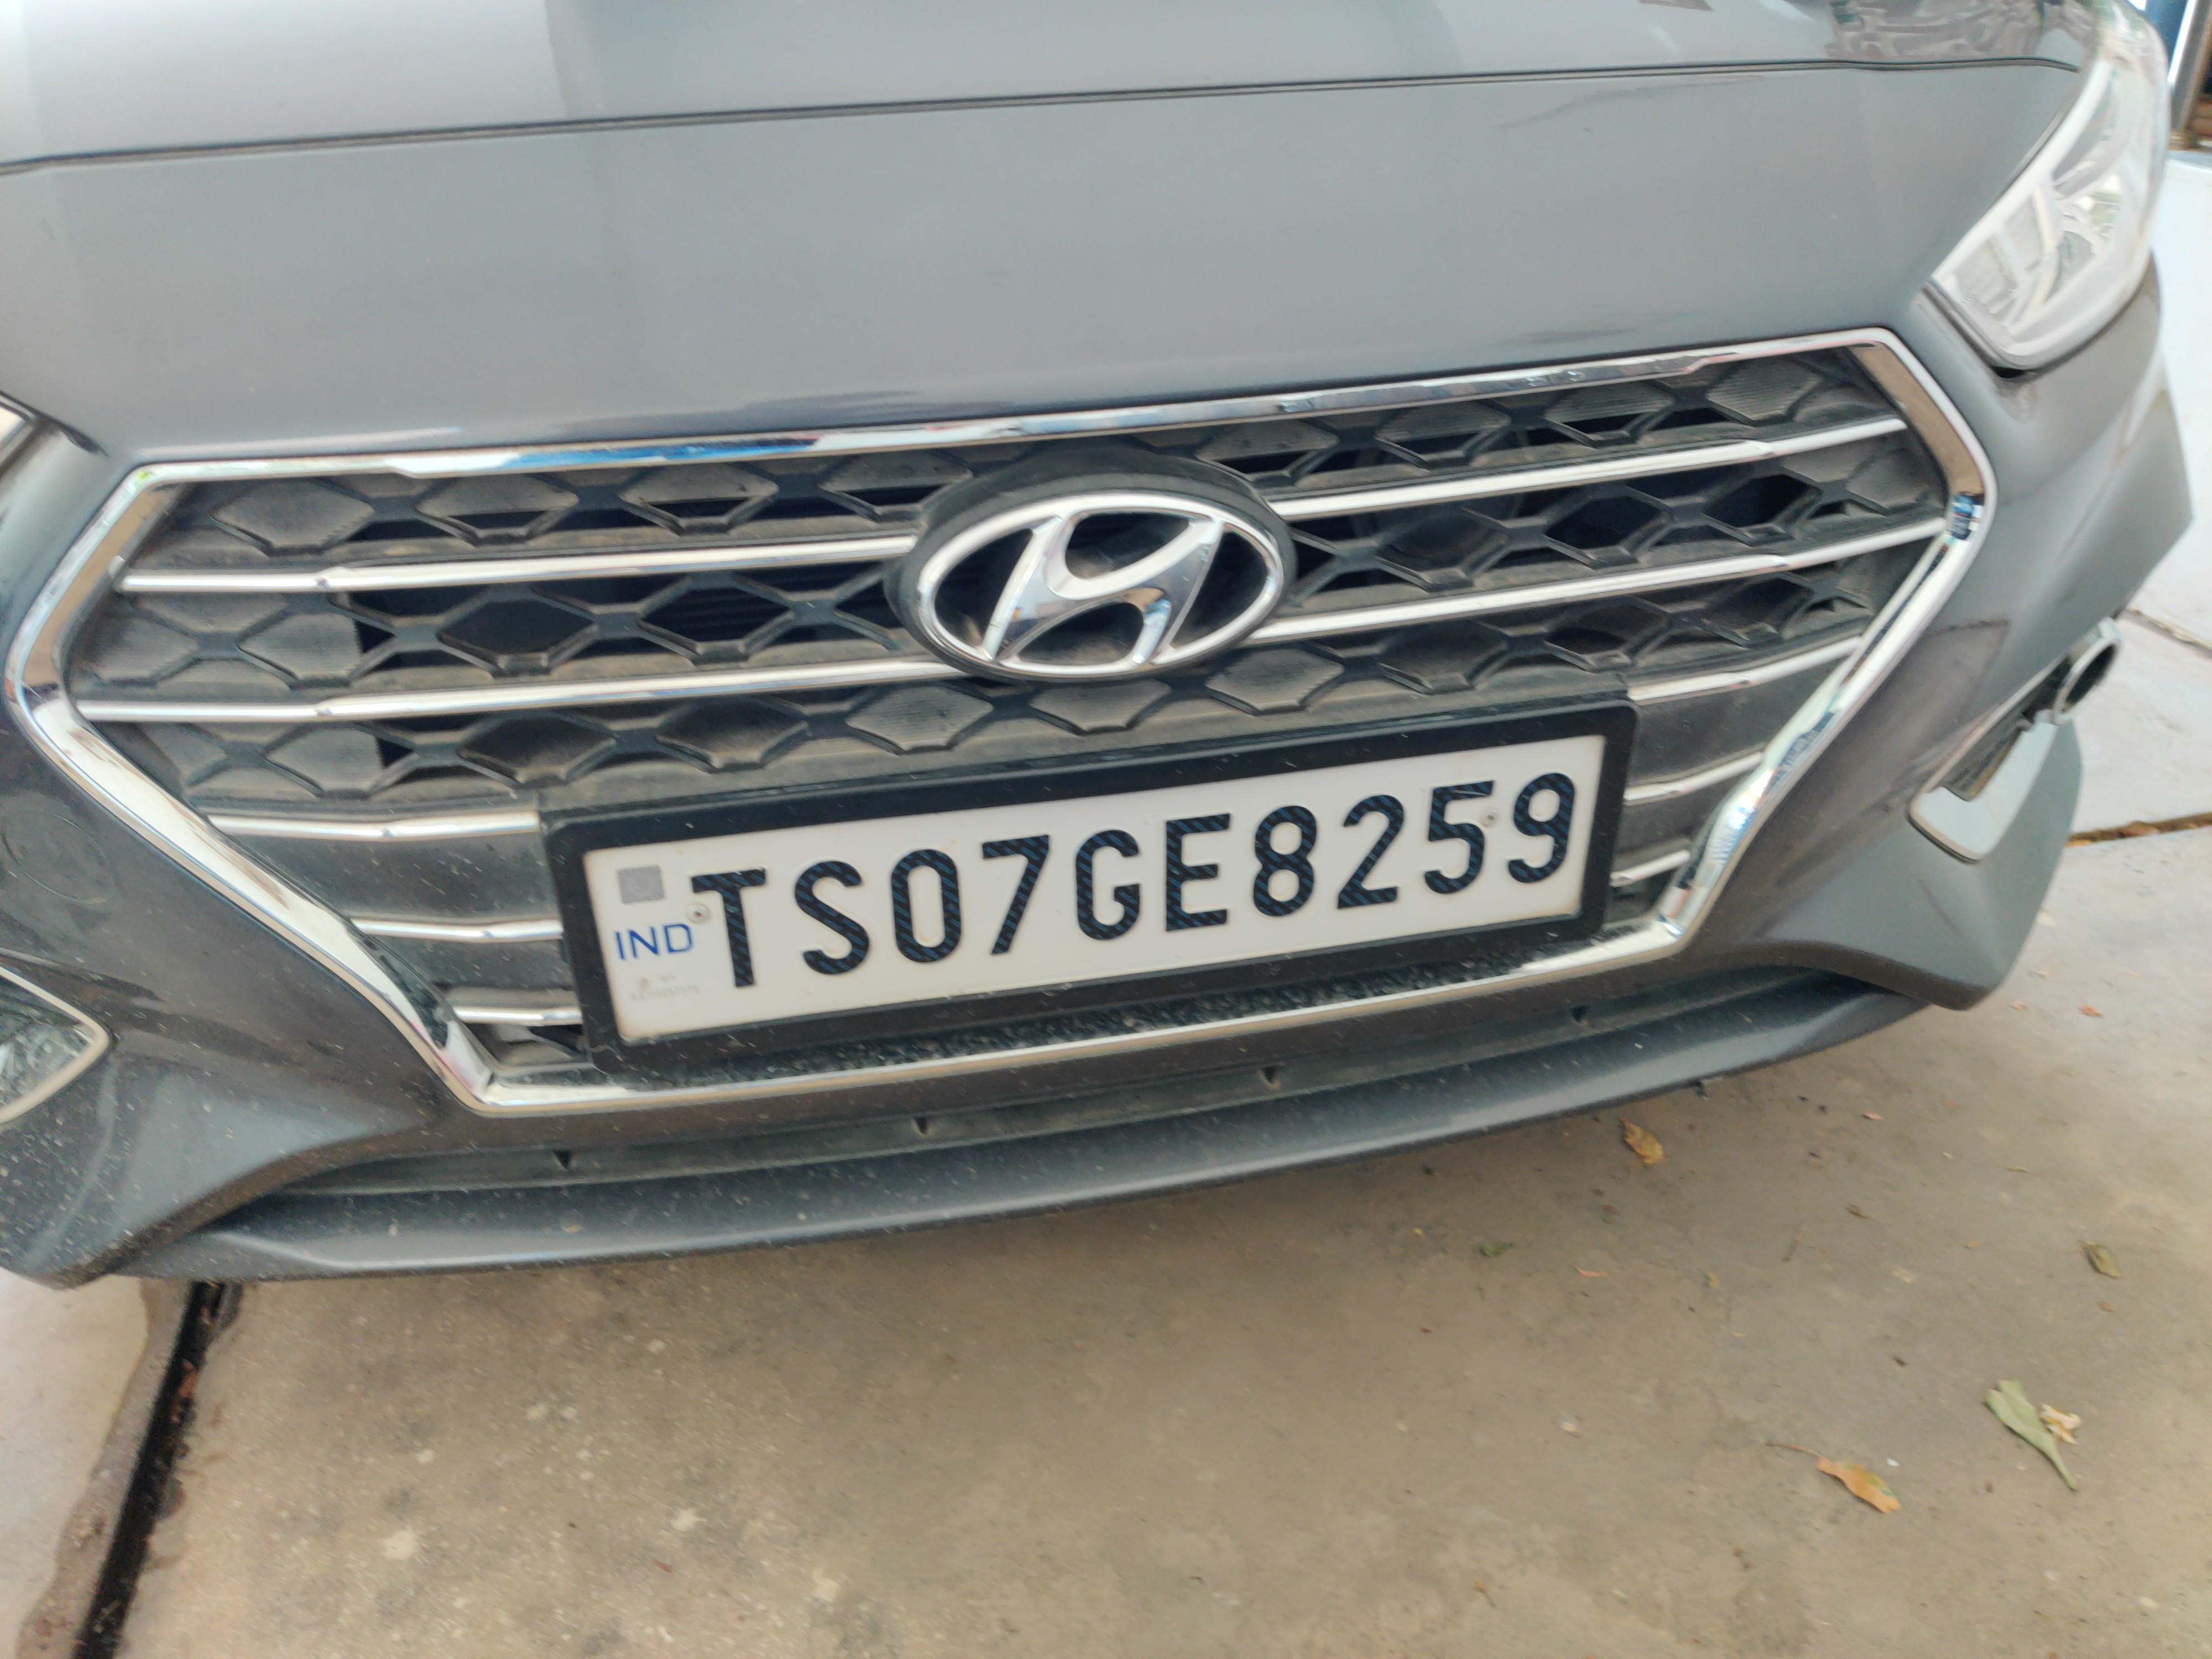plate: (535, 693, 1719, 1076)
